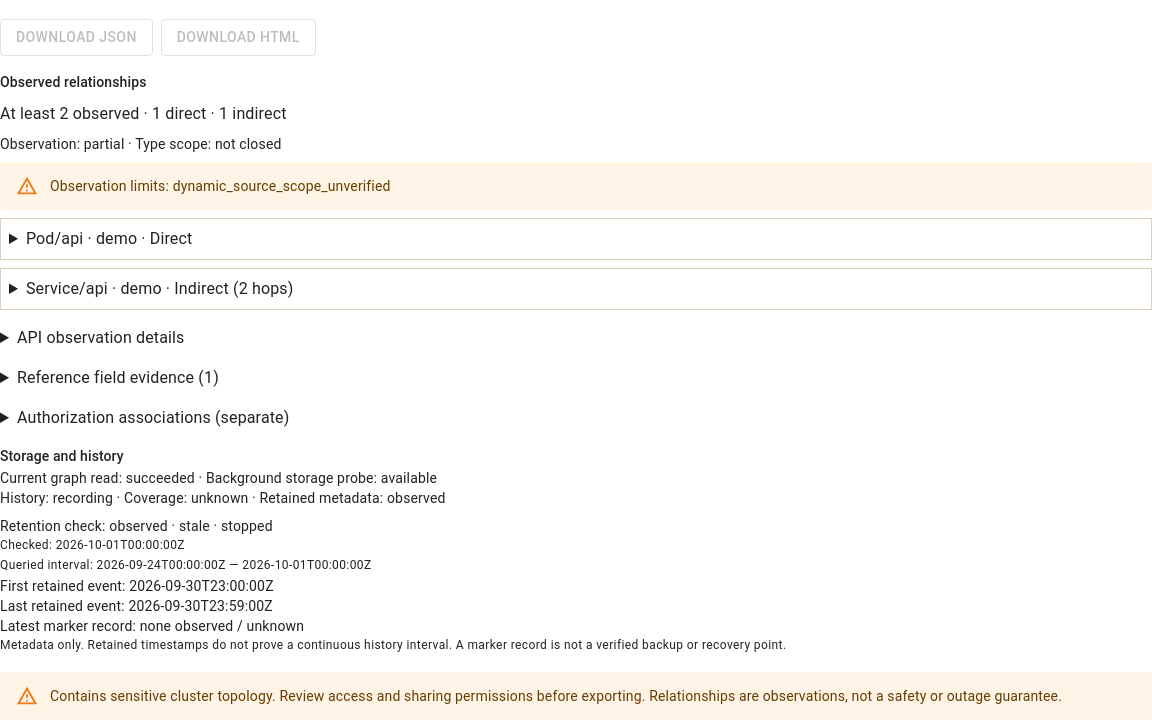
Test: reference-only identity, stale stopped retention and independent authorization are disclosed
The image size is (1152, 720).
(page scrolled)
Expected: the text "Retention check: observed · stale · stopped" is shown, [0,518,273,534]
Click the heading "Authorization associations (separate)". click: (153, 417)
box: [17,408,289,427]
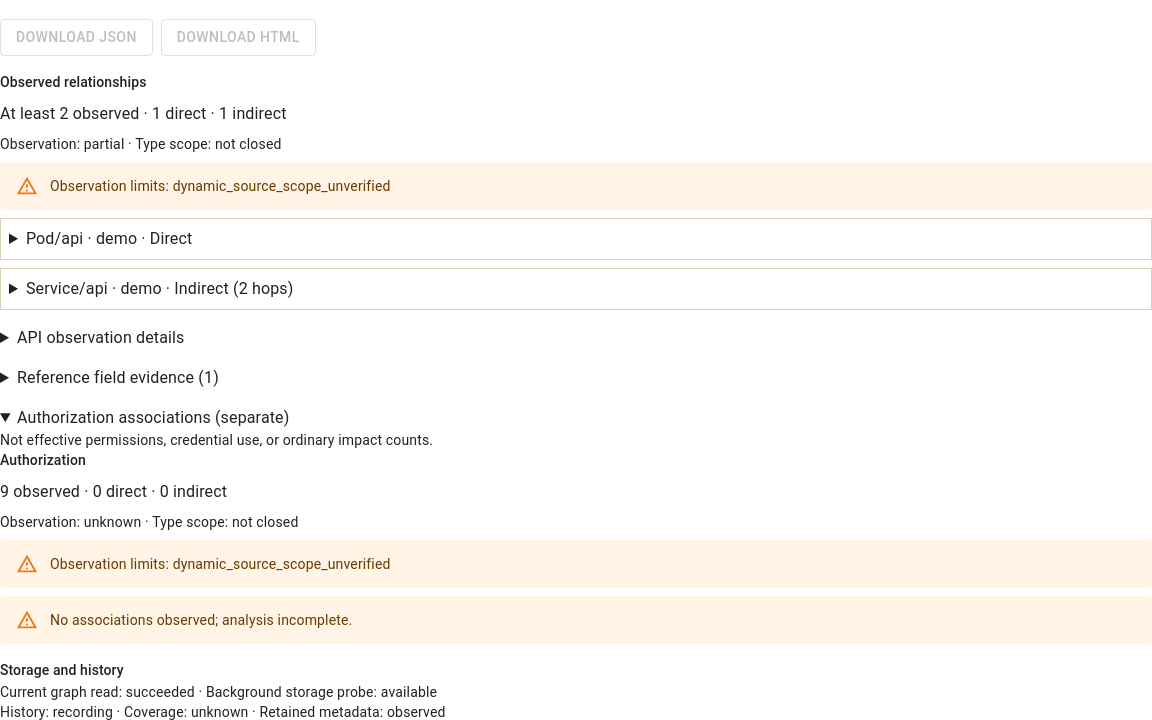
Expected: the text "At least 2 observed · 1 direct · 1 indirect" is shown, [0,104,286,123]
Now the text "9 observed · 0 direct · 0 indirect" is shown, box [0,482,227,501]
